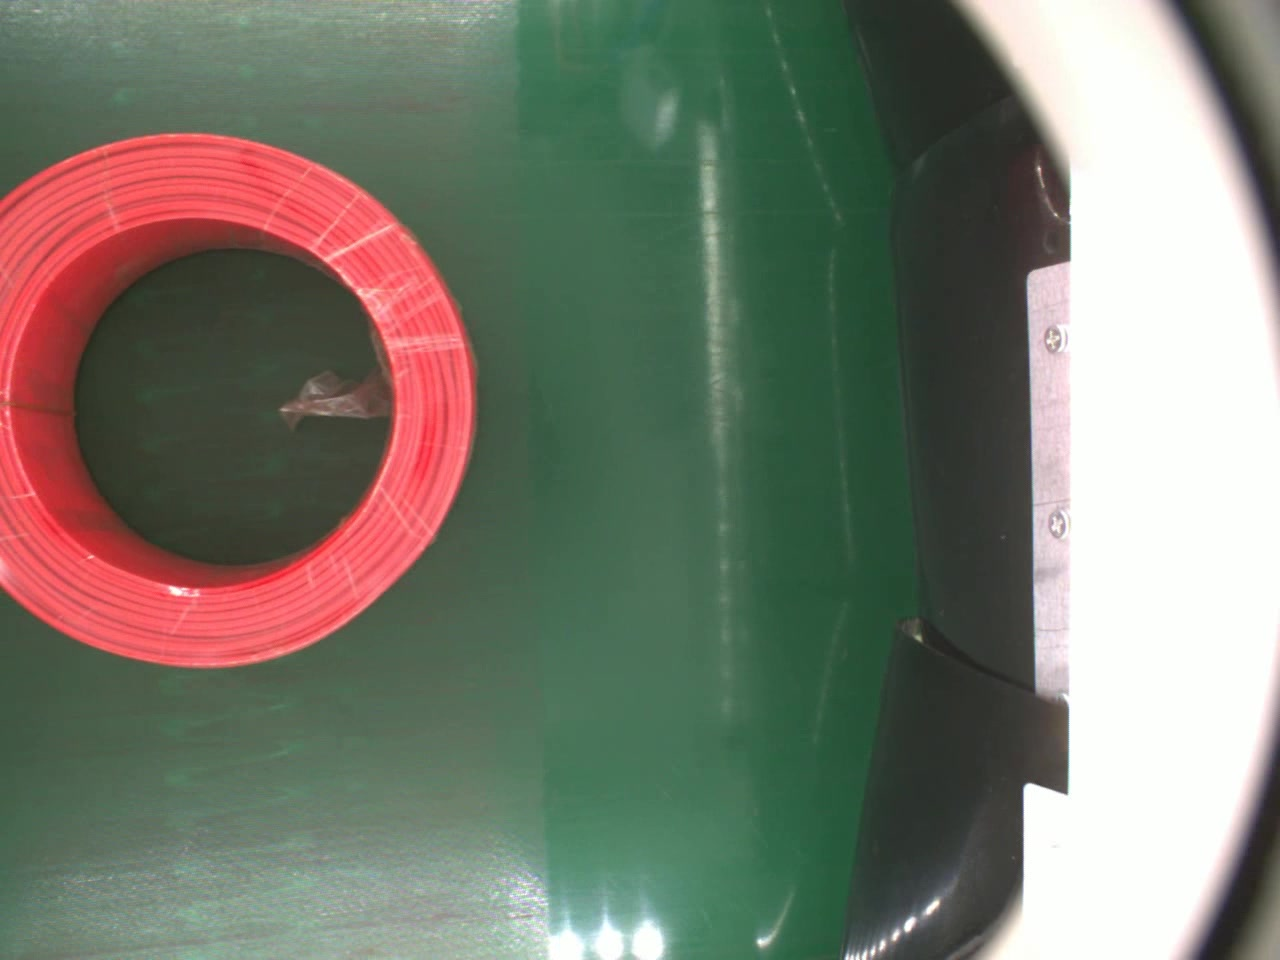red: (0, 129, 482, 671)
